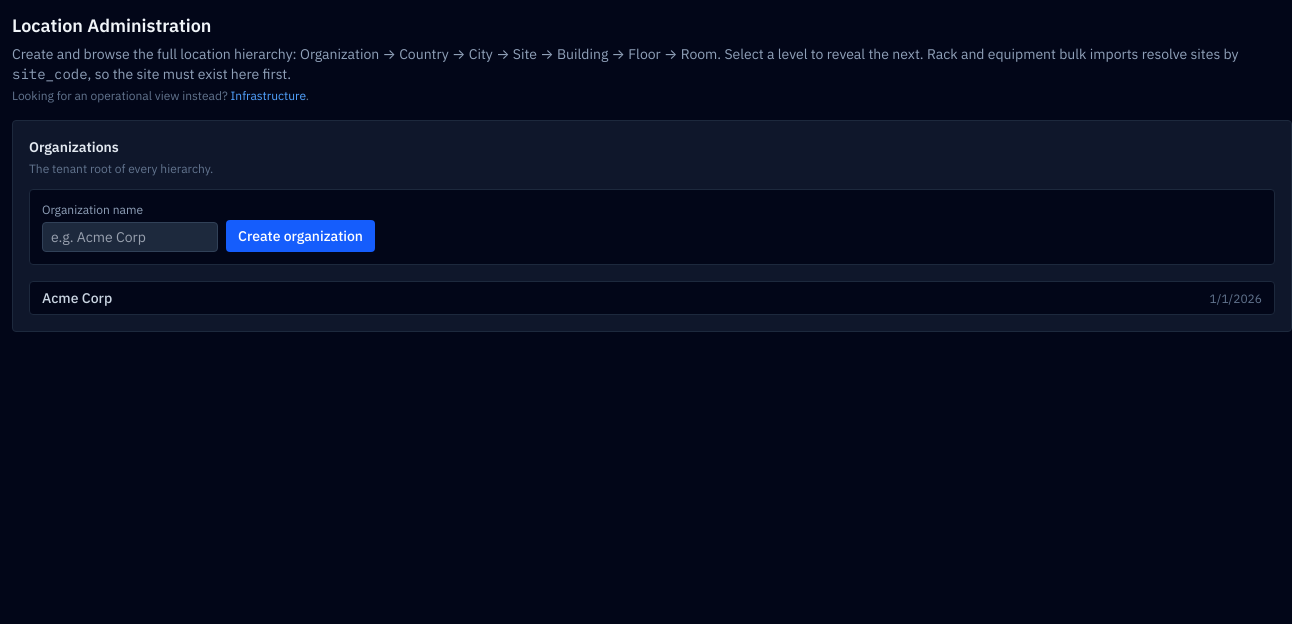
Test: LocationsPage › reveals Countries with the selected parent id once an organization is chosen
Click the button "Acme Corp 1/1/2026".
click(77, 298)  # box [29, 281, 1275, 315]
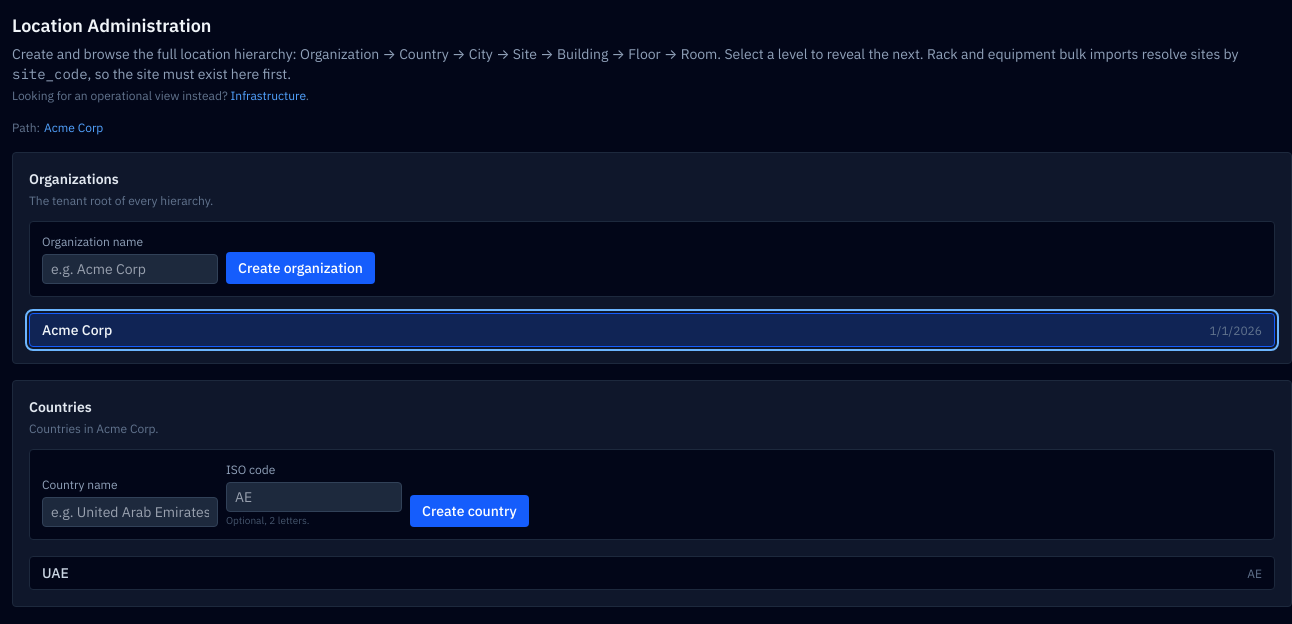
Check: the heading "Countries" is shown, box [29, 398, 92, 416]
Check: the button "UAE AE" is shown, box [29, 556, 1275, 590]
